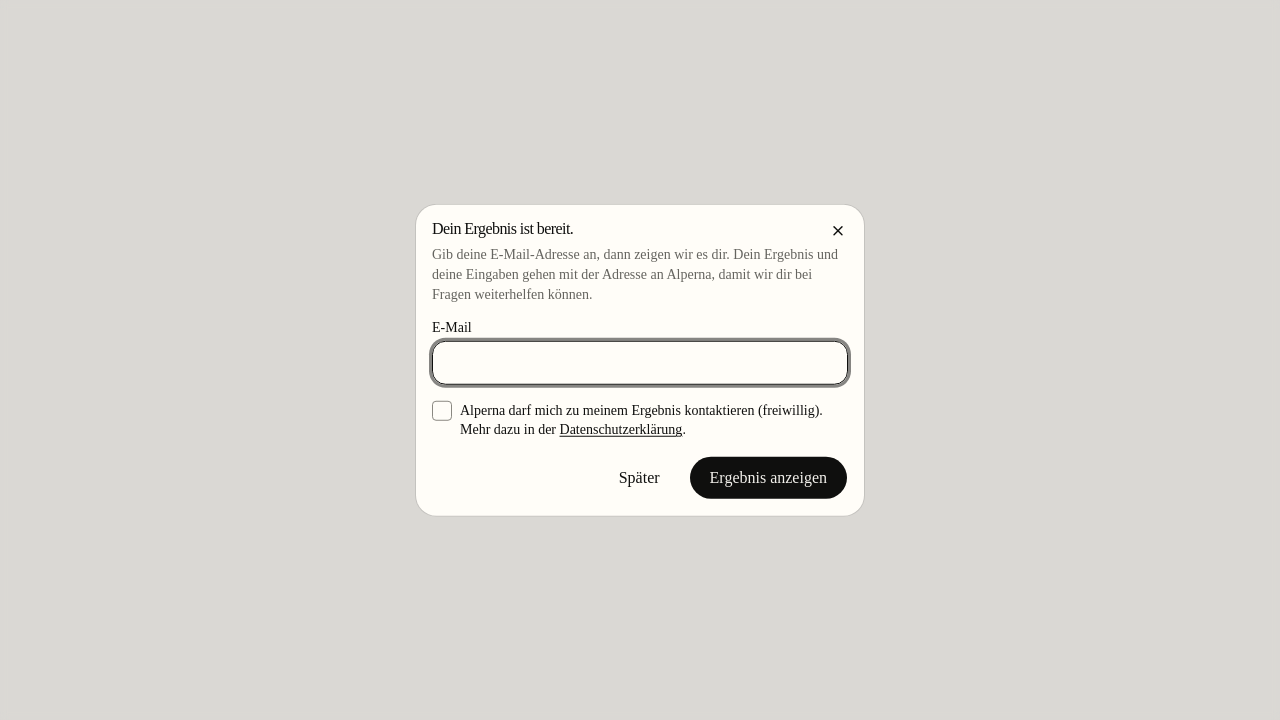
Test: LeadGate (E-Mail vor dem Ergebnis) › sendet nichts ohne Adresse; die Einwilligung ist freiwillig und kein Fehler
Click the button "Ergebnis anzeigen" at (768, 477), box [689, 455, 848, 499]
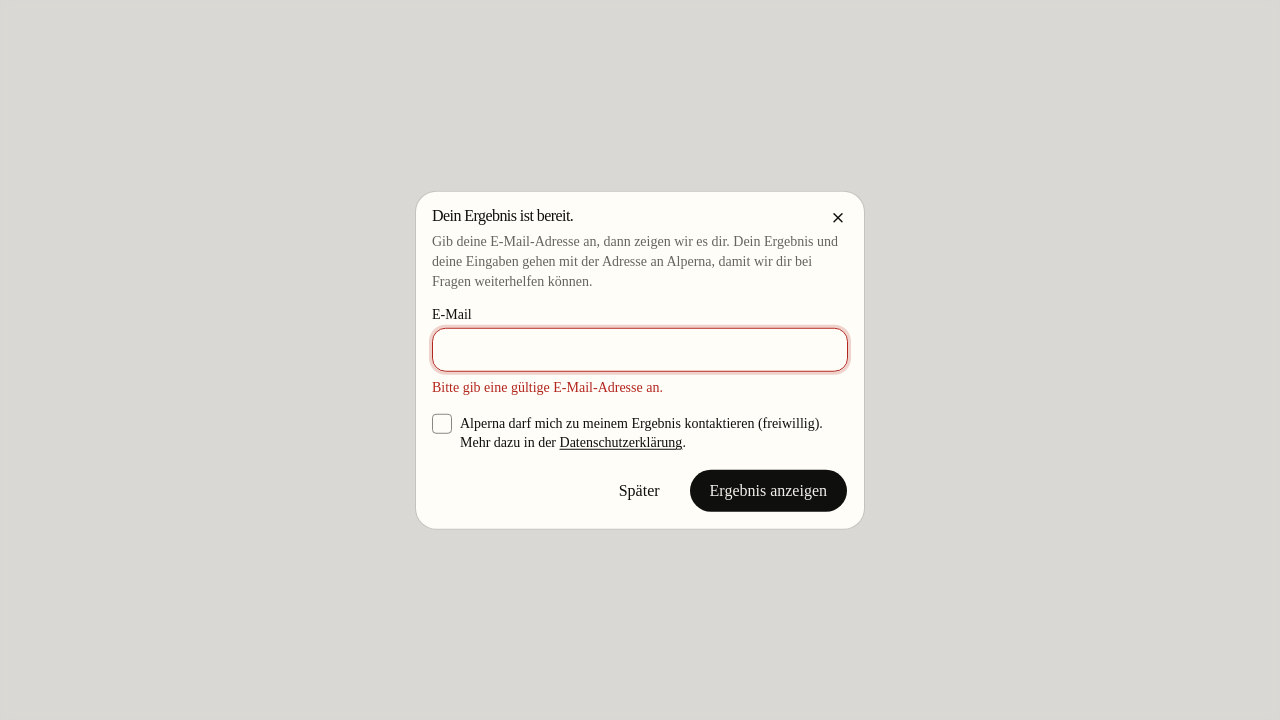
Expected: the checkbox named "Alperna darf mich zu meinem Ergebnis kontaktieren (freiwillig)" is not checked, [432, 414, 452, 434]
Now the text "Bitte gib eine gültige E-Mail-Adresse an." is shown, box [432, 380, 663, 395]
